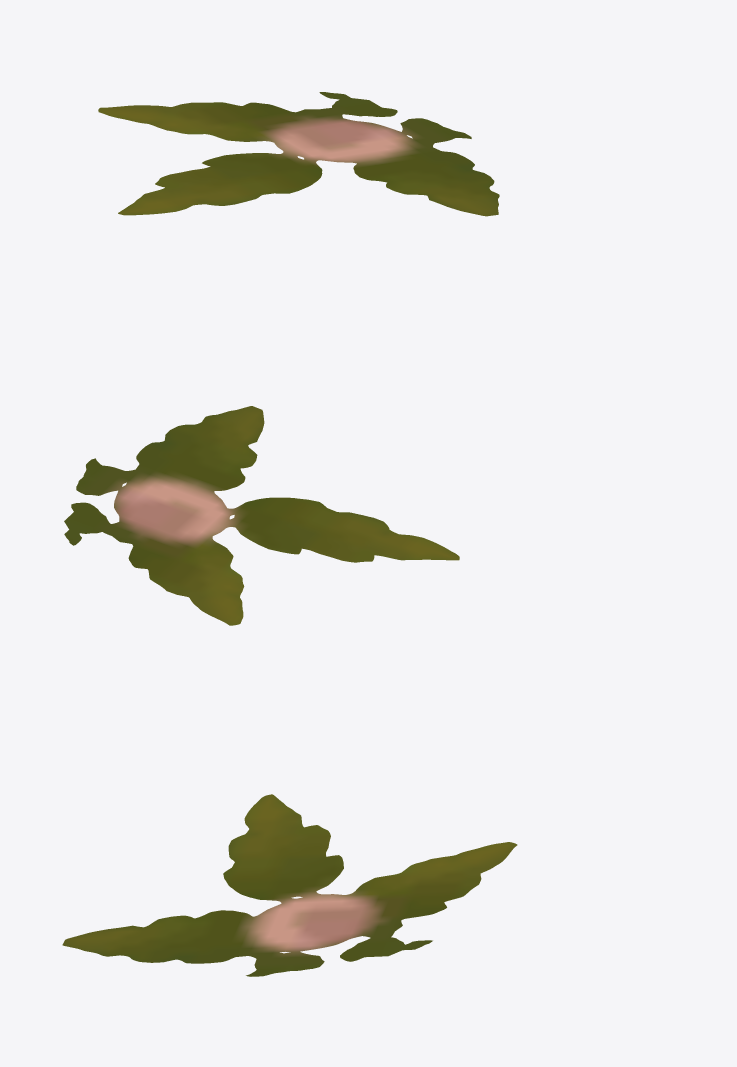
Rendered from flower_01.fbx.
3 views of the same model, one above another, from view 1: azimuth 30°, elevation 25°; view 2: azimuth 150°, elevation 25°; view 3: azimuth 270°, elevation 25° (orthographic). The views are drawn at different scales.
Visible parts, largest first — view 1: obj0.031; view 2: obj0.031; view 3: obj0.031.
Part boxes in pixels (left/top/right/bottom): obj0.031: left=98, top=92, right=499, bottom=216; obj0.031: left=64, top=406, right=459, bottom=625; obj0.031: left=62, top=794, right=517, bottom=976.
Bounding box in the file's own units: 0.8671 × 3.83e-05 × 0.7433.
